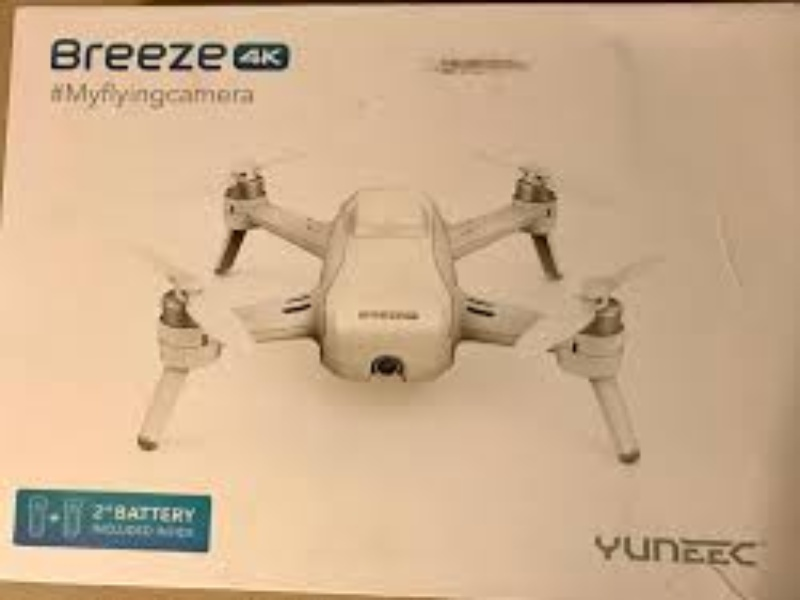drone: (134, 158, 644, 471)
